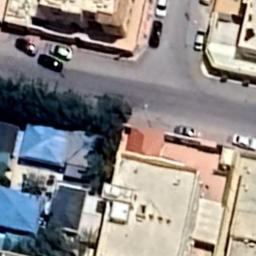sedan: (36, 54, 64, 74), (50, 42, 74, 62), (15, 37, 39, 57), (147, 20, 163, 50), (231, 133, 256, 150), (174, 125, 202, 138), (193, 28, 206, 52), (154, 0, 167, 17)
